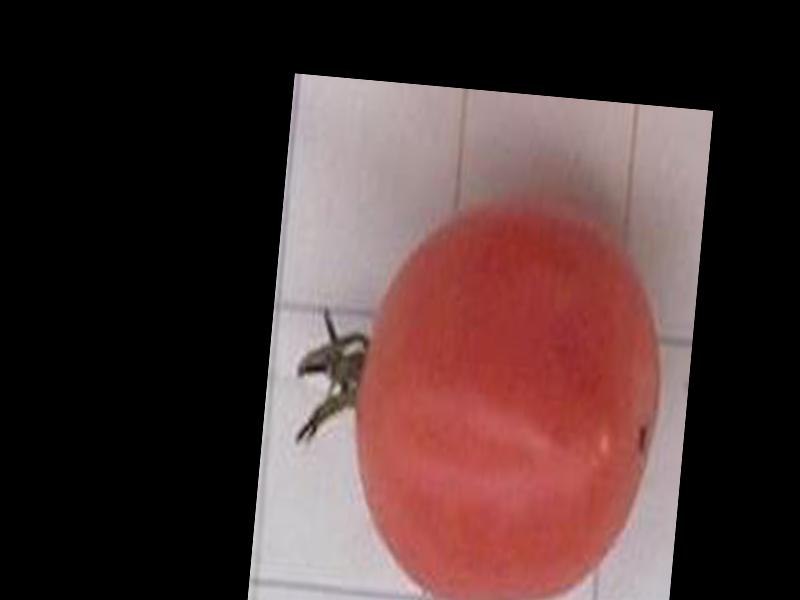Tomato: (341, 187, 676, 600)
